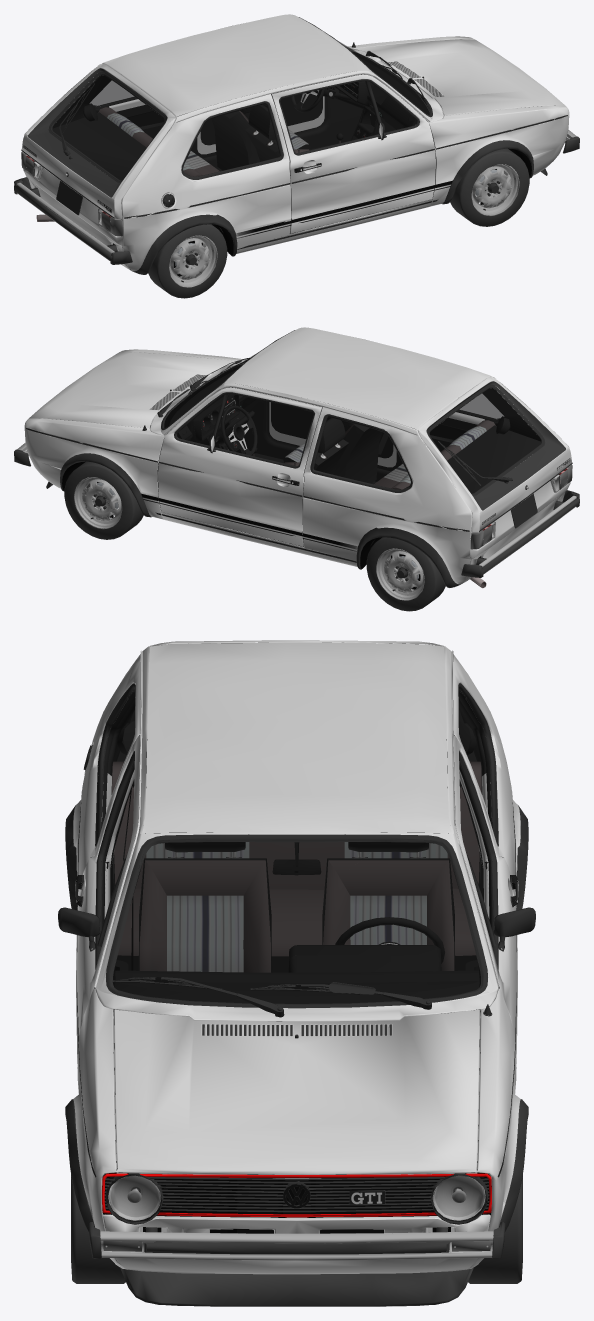
Rendered from gti.glb.
The picture shows the model from 3 angles, top to bottom: view 1: azimuth 30°, elevation 25°; view 2: azimuth 150°, elevation 25°; view 3: azimuth 270°, elevation 25°; orthographic projection. The views are drawn at different scales.
Visible parts, largest first — view 1: gti; view 2: gti; view 3: gti.
Boxes of the visible parts, x1,y1,x2,y2 form: gti: (14, 14, 579, 298); gti: (14, 327, 579, 611); gti: (58, 640, 535, 1306).
Size of the model in its own units: 4.15 by 1.49 by 1.83.
26 materials, 6 textured.
